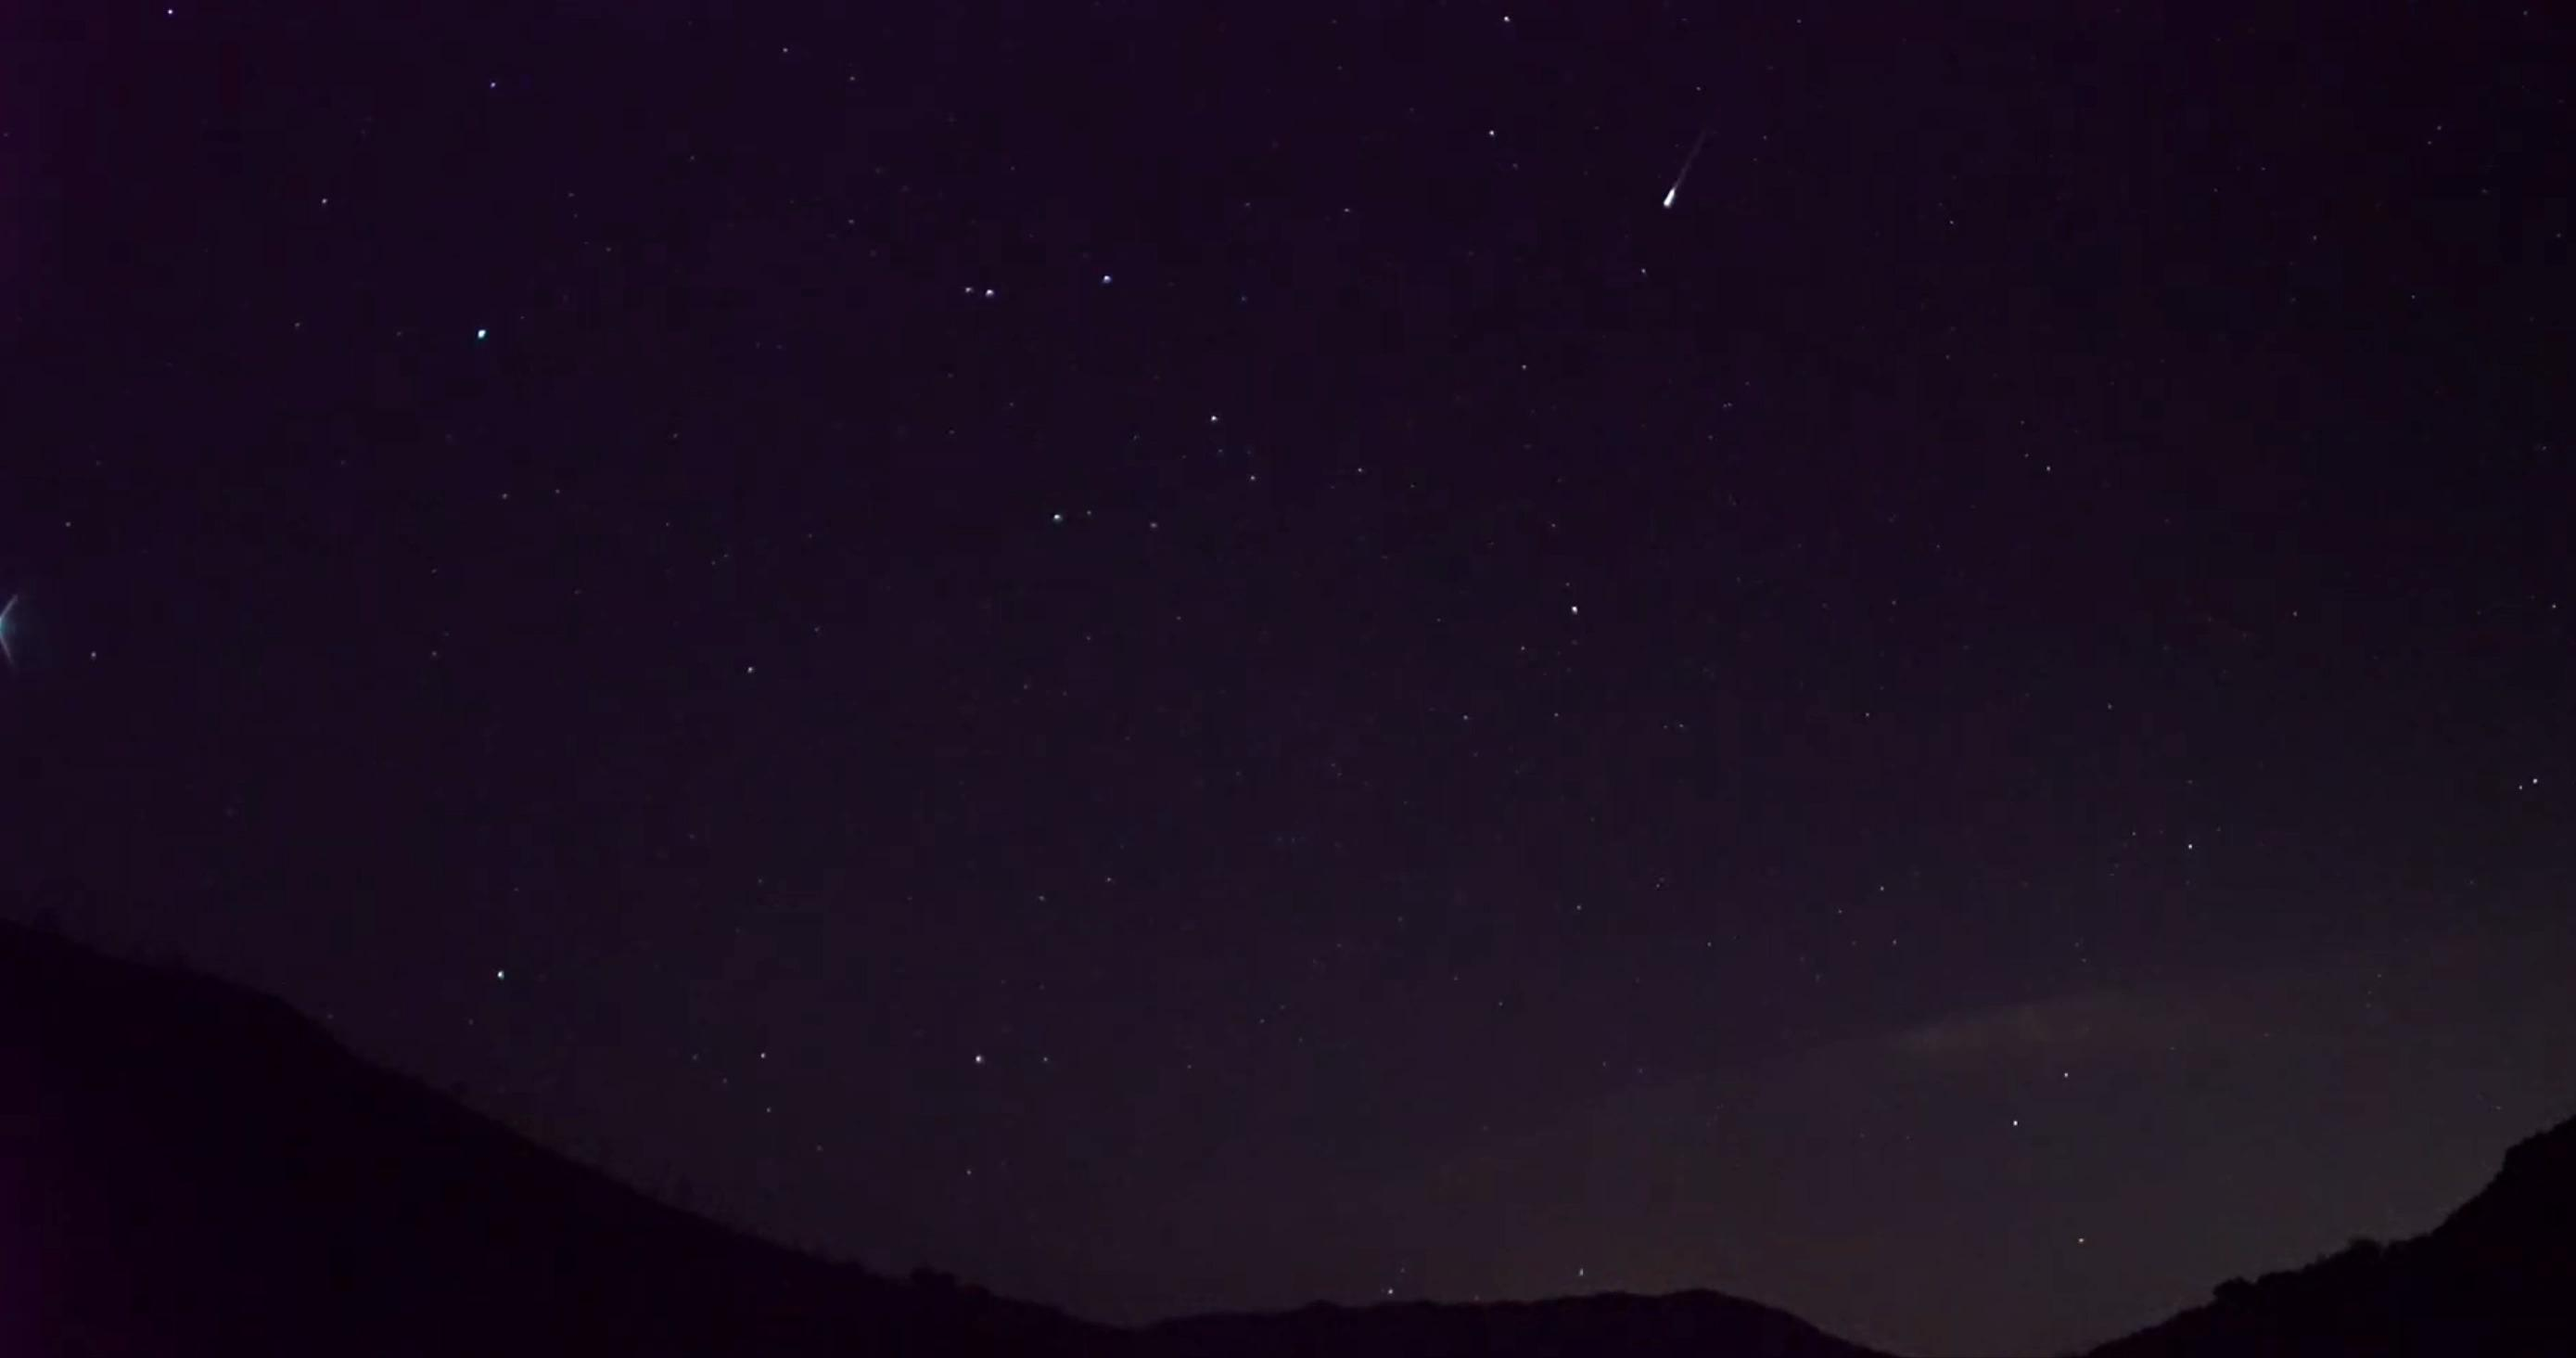meteorite: (1620, 129, 1746, 222)
